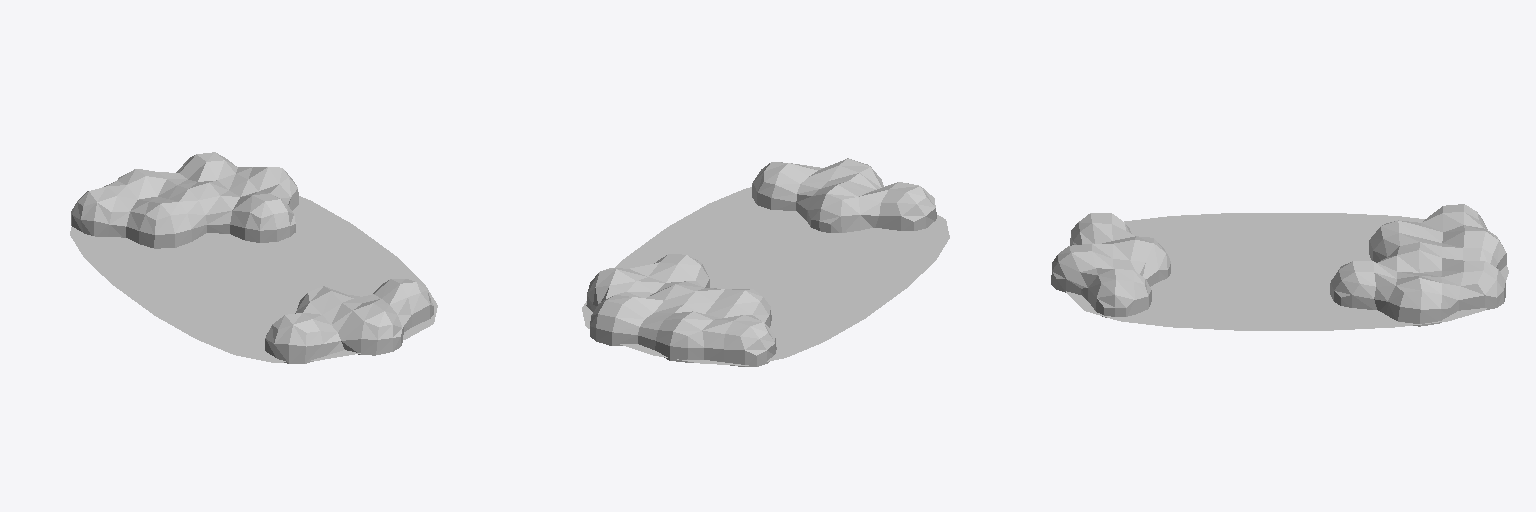
The model's file is bath_water.obj.
3 renders of one model, left to right at view 1: azimuth 30°, elevation 25°; view 2: azimuth 150°, elevation 25°; view 3: azimuth 270°, elevation 25°, orthographic.
Visible parts, largest first — view 1: bath_water; view 2: bath_water; view 3: bath_water.
Boxes of the visible parts, x1=… form: bath_water: x1=70, y1=152, x2=437, y2=363; bath_water: x1=582, y1=158, x2=949, y2=366; bath_water: x1=1051, y1=204, x2=1508, y2=330.
Size of the model in its own units: 1.5 by 0.213 by 2.46.